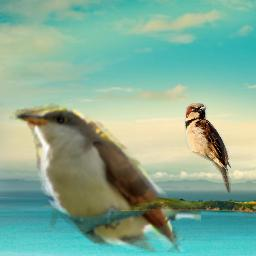Cuckoo: (9, 94, 201, 252)
Swallow: (184, 103, 231, 193)
